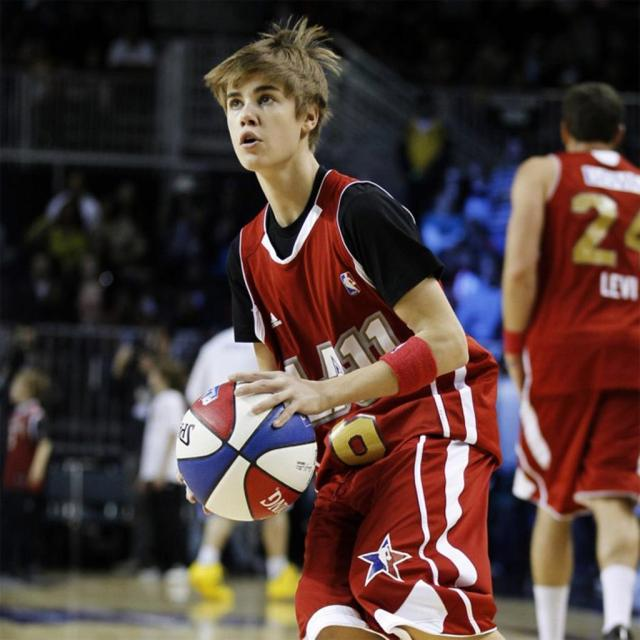Face: (220, 78, 324, 172)
